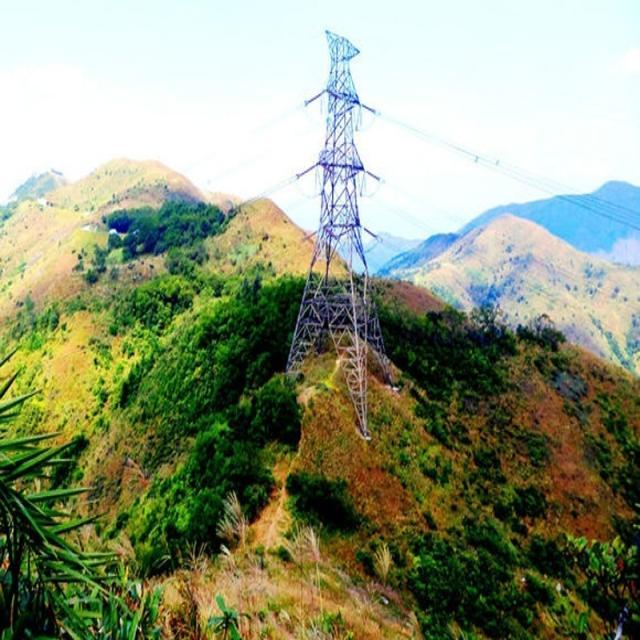non-critical vegetation: (284, 18, 394, 434)
